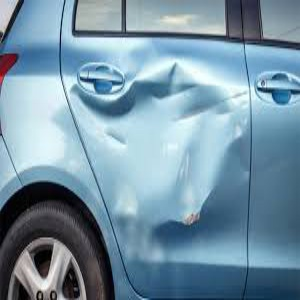door: (109, 61, 266, 232)
